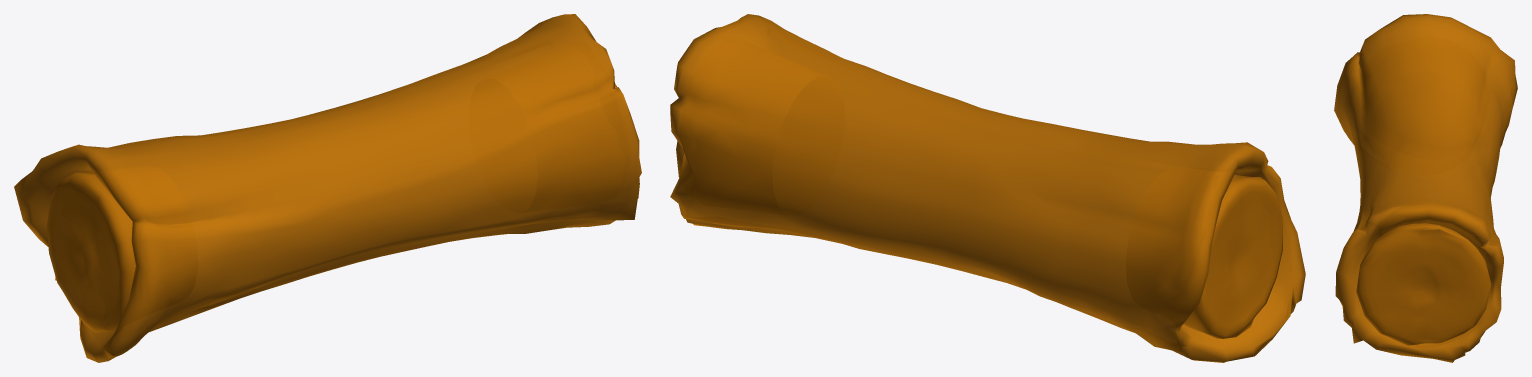
The model's file is SM_TreeTrunk_side_low.fbx.
3 renders of one model, left to right at view 1: azimuth 30°, elevation 25°; view 2: azimuth 150°, elevation 25°; view 3: azimuth 270°, elevation 25°, orthographic. The views are drawn at different scales.
Visible parts, largest first — view 1: SM_TreeTrunk_side_low; view 2: SM_TreeTrunk_side_low; view 3: SM_TreeTrunk_side_low.
Boxes of the visible parts, x1=… form: SM_TreeTrunk_side_low: x1=14, y1=14, x2=641, y2=362; SM_TreeTrunk_side_low: x1=670, y1=14, x2=1305, y2=362; SM_TreeTrunk_side_low: x1=1334, y1=14, x2=1517, y2=362.
Size of the model in its own units: 1802 by 652 by 653.
